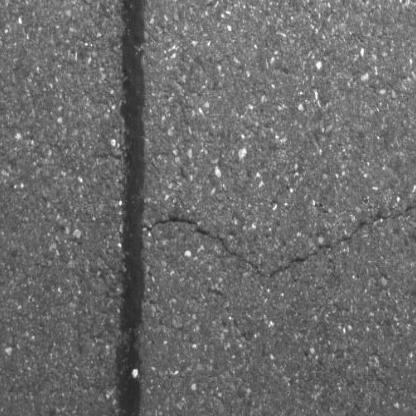Cracks: (142, 202, 416, 284)
